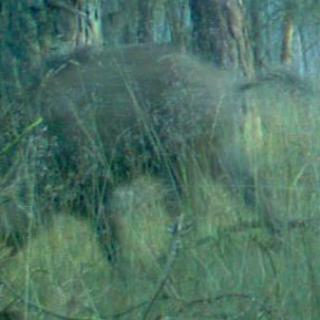Pig: (9, 16, 288, 257)
